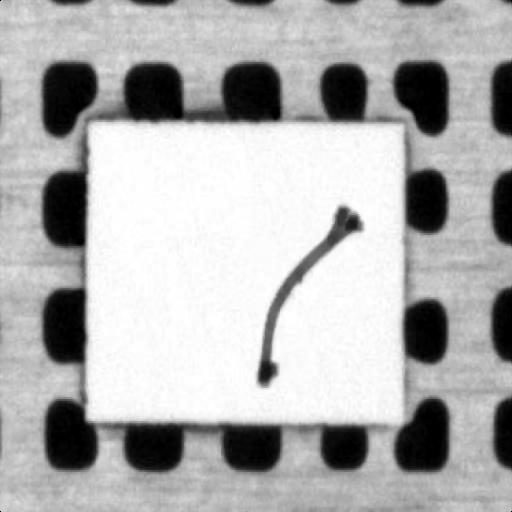DIE_INK: (247, 198, 360, 384)
